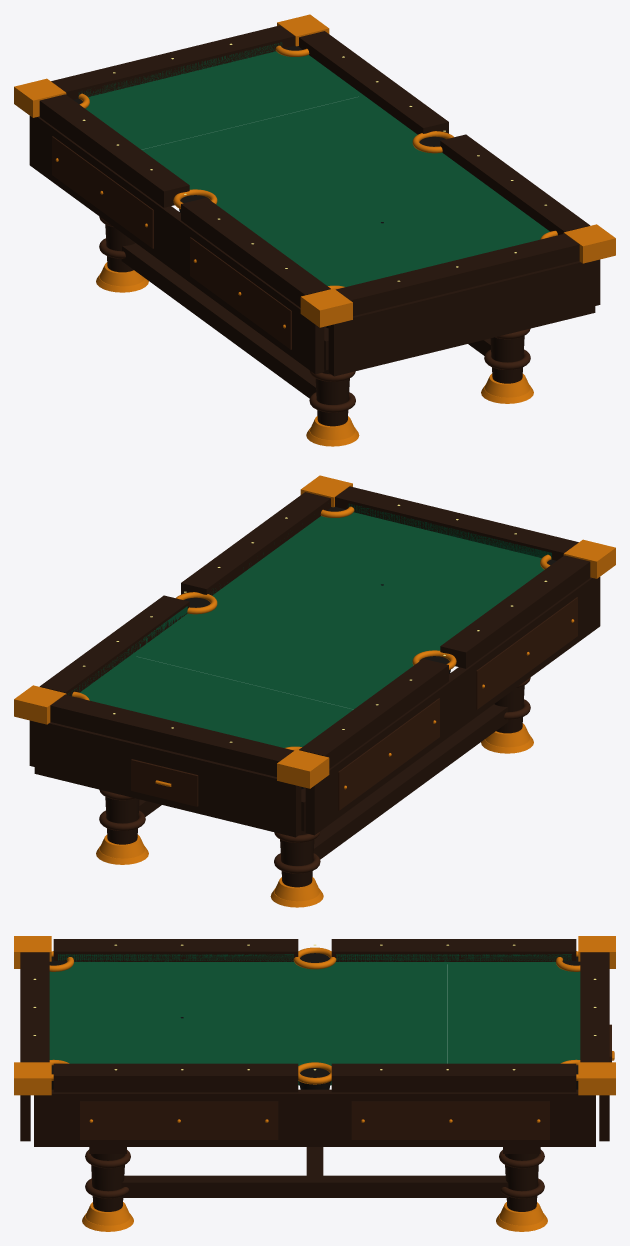
Rendered from pool_table.glb.
3 views of the same model, one above another, from view 1: azimuth 30°, elevation 25°; view 2: azimuth 150°, elevation 25°; view 3: azimuth 270°, elevation 25° (orthographic).
Visible parts, largest first — view 1: Bed_Slate_Cloth, Cabinet_Apron_Group, Rail_Foot, Rail_Head, Pedestal_Legs_Group, Rail_Left_Upper, Rail_Left_Lower, Pockets_Group, Rail_Right_Upper, Rail_Right_Lower, Leg_2, Leg_3 (+2 smaller); view 2: Bed_Slate_Cloth, Cabinet_Apron_Group, Rail_Head, Pedestal_Legs_Group, Rail_Foot, Rail_Left_Lower, Rail_Left_Upper, Pockets_Group, Rail_Right_Lower, Rail_Right_Upper, Leg_0, Leg_1 (+2 smaller); view 3: Bed_Slate_Cloth, Cabinet_Apron_Group, Pedestal_Legs_Group, Rail_Right_Upper, Rail_Right_Lower, Rail_Left_Upper, Rail_Left_Lower, Pockets_Group, Leg_1, Leg_3, Rail_Head, Rail_Foot (+3 smaller).
Boxes of the visible parts, x1,y1,x2,y2 form: Bed_Slate_Cloth: (85,51,549,286); Cabinet_Apron_Group: (29,116,600,376); Rail_Foot: (336,233,579,315); Rail_Head: (51,25,294,99); Pedestal_Legs_Group: (121,243,490,398); Rail_Left_Upper: (39,94,189,207); Rail_Left_Lower: (181,197,330,307); Pockets_Group: (14,14,615,327); Rail_Right_Upper: (299,31,448,134); Rail_Right_Lower: (440,134,590,235); Leg_2: (306,327,359,446); Leg_3: (481,328,533,403); Bed_Slate_Cloth: (80,512,544,747); Cabinet_Apron_Group: (29,577,600,837); Rail_Head: (50,694,293,776); Pedestal_Legs_Group: (139,704,508,859); Rail_Foot: (335,486,578,560); Rail_Left_Lower: (440,555,590,668); Rail_Left_Upper: (299,658,448,768); Pockets_Group: (14,475,615,788); Rail_Right_Lower: (181,492,330,595); Rail_Right_Upper: (39,595,189,695); Leg_0: (270,788,323,907); Leg_1: (96,789,148,864); Bed_Slate_Cloth: (49,962,580,1085); Cabinet_Apron_Group: (20,1024,614,1146); Pedestal_Legs_Group: (121,1147,508,1197); Rail_Right_Upper: (331,1063,576,1092); Rail_Right_Lower: (53,1063,298,1092); Rail_Left_Upper: (331,939,576,961); Rail_Left_Lower: (53,939,298,961); Pockets_Group: (14,936,615,1095); Leg_1: (496,1147,547,1231); Leg_3: (82,1147,133,1231); Rail_Head: (580,952,609,1062); Rail_Foot: (20,952,49,1062).
Bounding box in the file's own units: 1.61 × 0.907 × 2.88.
